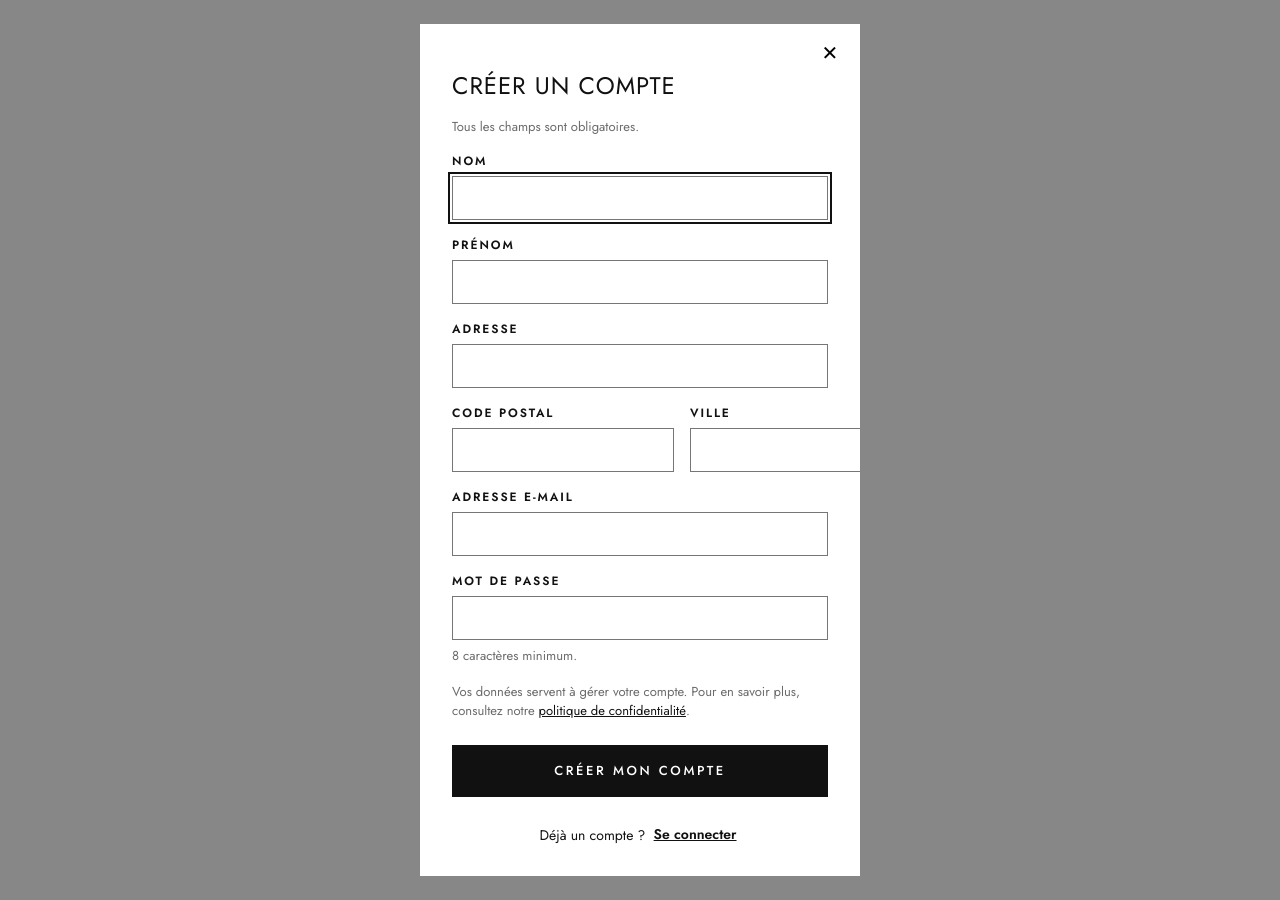
Scenario: RegisterModal › refuse un formulaire vide, sans appeler l'API
Click the button "Créer mon compte": (640, 771) [452,745,828,797]
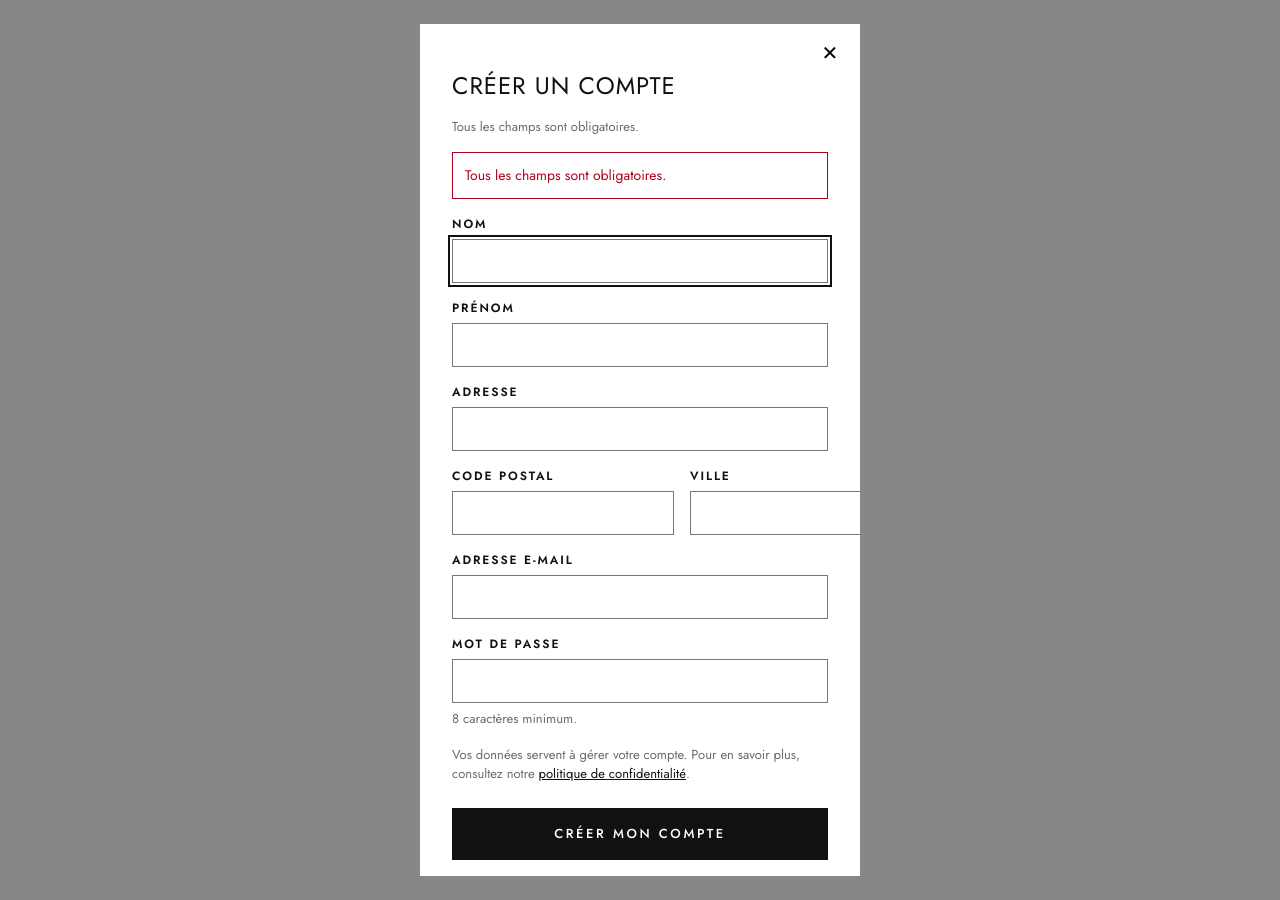
expect the message reads "Tous les champs sont obligatoires.": met, box [465,165,666,185]
